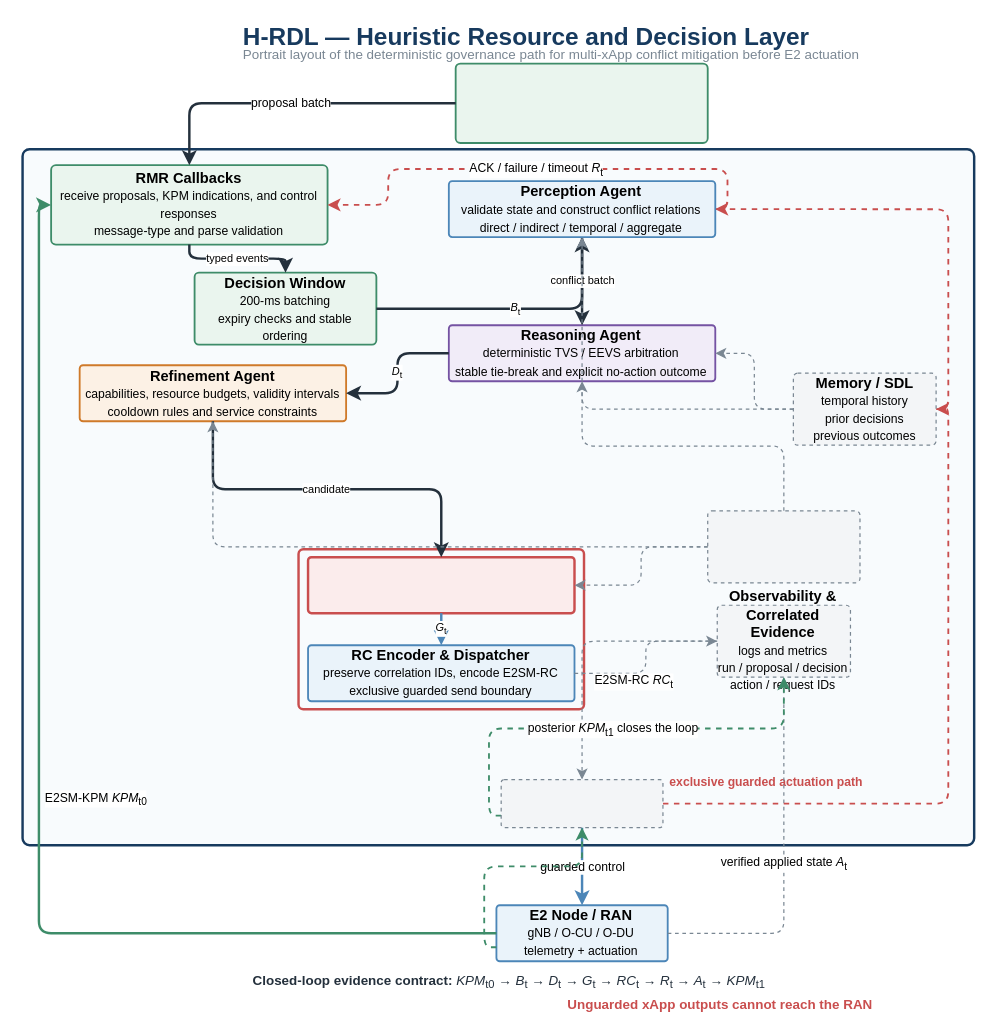
Some shapes in this 996 by 1035 pixel diagram are drawn without their labels. The centre of each missing label's shape, as x and y in pixels:
"Concurrent xApps steering / slicing energy / QoS raw proposals" goes at (581,102).
"E2 Boundary / NORI protocol boundary" goes at (581,803).
"Safety Guard A safe ( s t ) pass / project / safe default / reject" goes at (440,584).
"Versioned Configuration rules and weights limits and safety constraints" goes at (783,546).
